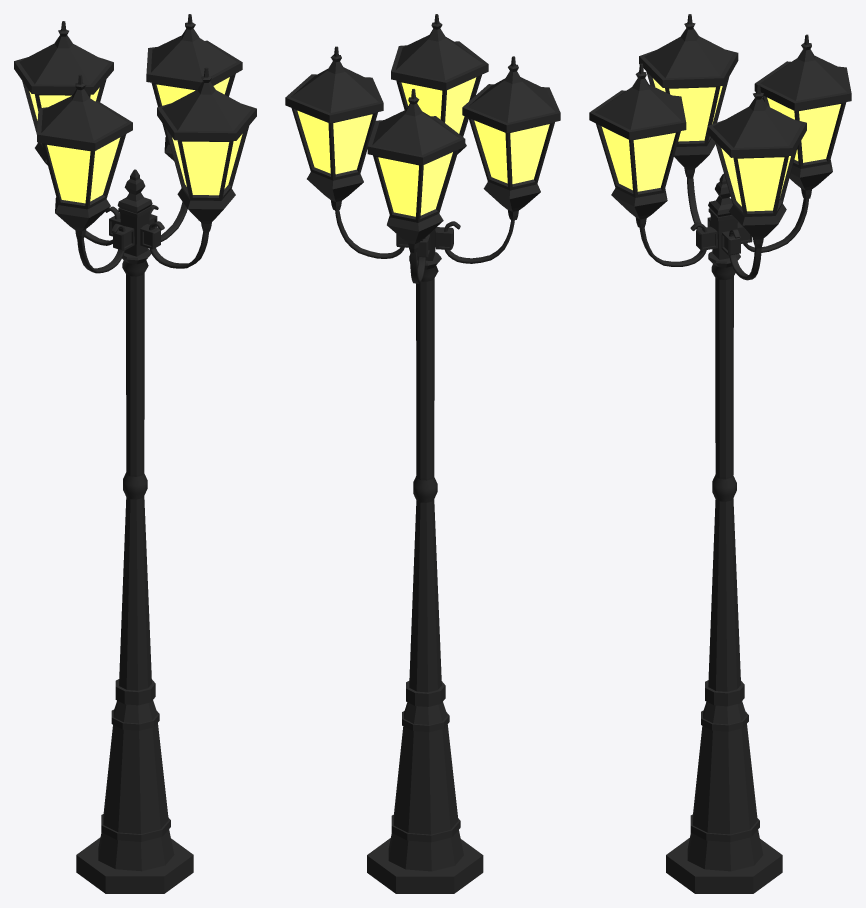
File: FarolaDe4.fbx
3 renders of one model, left to right at view 1: azimuth 30°, elevation 25°; view 2: azimuth 150°, elevation 25°; view 3: azimuth 270°, elevation 25°, orthographic.
Visible parts, largest first — view 1: FarolaDe4; view 2: FarolaDe4; view 3: FarolaDe4.
Boxes of the visible parts, x1,y1,x2,y2 form: FarolaDe4: (14,14,256,893); FarolaDe4: (285,14,560,893); FarolaDe4: (589,14,851,893).
Bounding box in the file's own units: 99.95 × 346 × 99.95.
